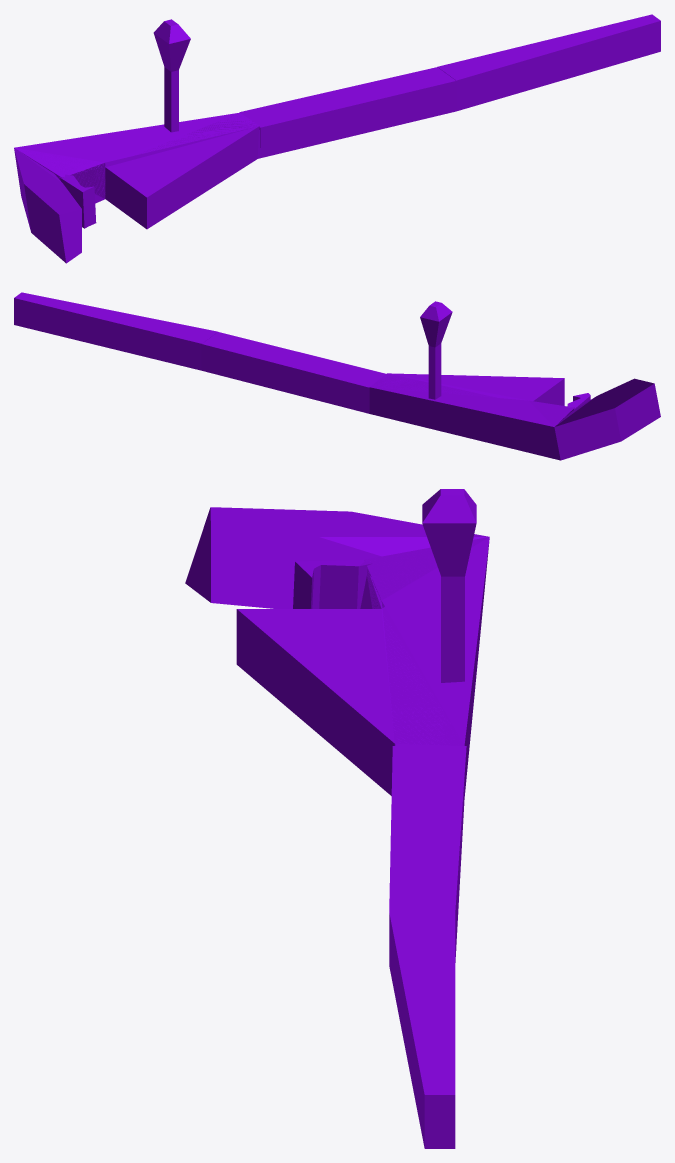
The model's file is Винтовочка.fbx.
The picture shows the model from 3 angles, top to bottom: view 1: azimuth 30°, elevation 25°; view 2: azimuth 150°, elevation 25°; view 3: azimuth 270°, elevation 25°; orthographic projection. The views are drawn at different scales.
Visible parts, largest first — view 1: Плоскость; view 2: Плоскость; view 3: Плоскость.
Part boxes in pixels (left/top/right/bottom): Плоскость: left=14, top=14, right=660, bottom=263; Плоскость: left=14, top=292, right=660, bottom=460; Плоскость: left=185, top=489, right=489, bottom=1148.
Size of the model in its own units: 152 by 31.05 by 34.52.
